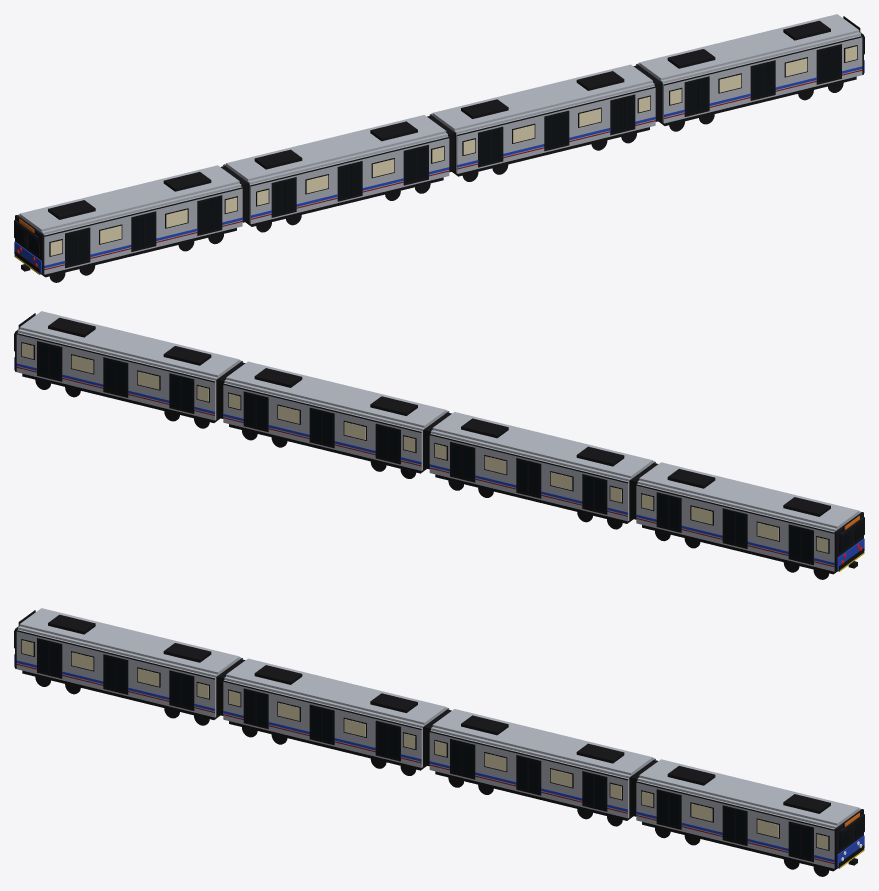
File: subway_train.obj
3 renders of one model, top to bottom at view 1: azimuth 30°, elevation 25°; view 2: azimuth 150°, elevation 25°; view 3: azimuth 330°, elevation 25°, orthographic.
Visible parts, largest first — view 1: Shell_4, Shell_2, Shell_3, Shell_1, RoofB_3, RoofB_1, RoofB_2, RoofB_4, RoofA_3, RoofA_4, RoofA_2, RoofA_1 (+12 smaller); view 2: Shell_4, Shell_2, Shell_3, Shell_1, RoofB_3, RoofB_1, RoofB_2, RoofB_4, RoofA_3, RoofA_4, RoofA_2, RoofA_1 (+13 smaller); view 3: Shell_1, Shell_3, Shell_2, Shell_4, RoofB_2, RoofB_1, RoofB_3, RoofB_4, RoofA_1, RoofA_2, RoofA_3, RoofA_4 (+13 smaller).
Part boxes in pixels (x1,y1,x2,y2): Shell_4: (636, 35, 862, 123); Shell_2: (223, 136, 449, 224); Shell_3: (430, 86, 655, 173); Shell_1: (44, 186, 242, 274); RoofB_3: (432, 64, 652, 130); RoofB_1: (19, 165, 239, 231); RoofB_2: (226, 115, 446, 181); RoofB_4: (639, 14, 859, 80); RoofA_3: (431, 82, 654, 134); RoofA_4: (637, 32, 860, 83); RoofA_2: (224, 133, 447, 184); RoofA_1: (18, 183, 241, 234); Shell_4: (16, 332, 241, 420); Shell_2: (429, 433, 655, 521); Shell_3: (223, 383, 448, 470); Shell_1: (636, 483, 834, 571); RoofB_3: (226, 361, 446, 427); RoofB_1: (639, 462, 859, 528); RoofB_2: (432, 412, 652, 478); RoofB_4: (19, 311, 239, 377); RoofA_3: (224, 379, 447, 431); RoofA_4: (18, 329, 241, 380); RoofA_2: (431, 430, 654, 481); RoofA_1: (637, 480, 860, 531); Shell_1: (16, 629, 241, 717); Shell_3: (429, 730, 655, 818); Shell_2: (223, 680, 448, 767); Shell_4: (636, 780, 834, 868); RoofB_2: (226, 658, 446, 724); RoofB_1: (19, 608, 239, 674); RoofB_3: (432, 709, 652, 775); RoofB_4: (639, 759, 859, 825); RoofA_1: (18, 626, 241, 677); RoofA_2: (224, 676, 447, 728); RoofA_3: (431, 727, 654, 778); RoofA_4: (637, 777, 860, 828).
Size of the model in its own units: 50.45 by 3.66 by 3.02.
